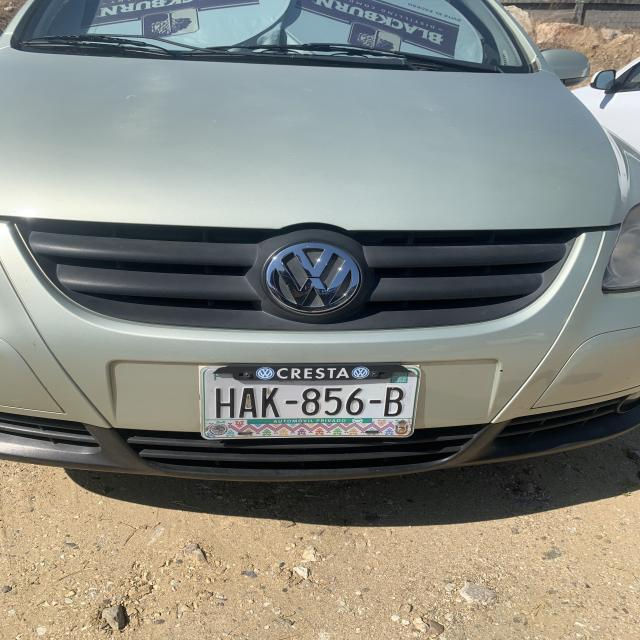placa: (206, 381, 415, 421)
